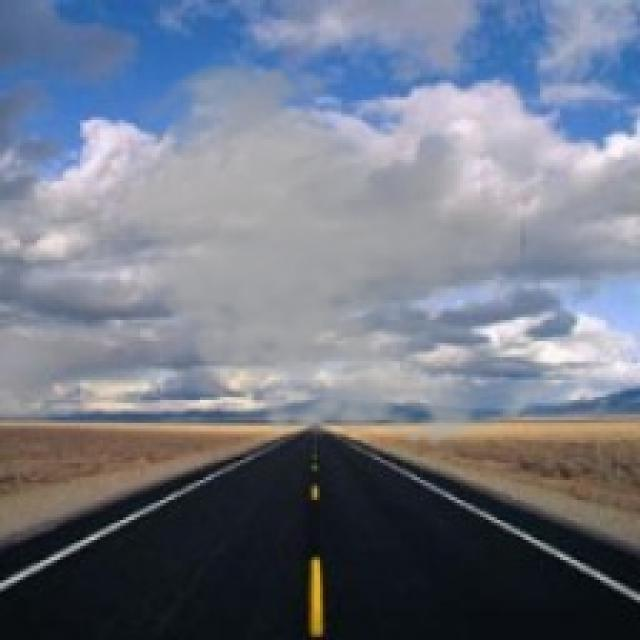Smoke: (103, 51, 526, 460)
